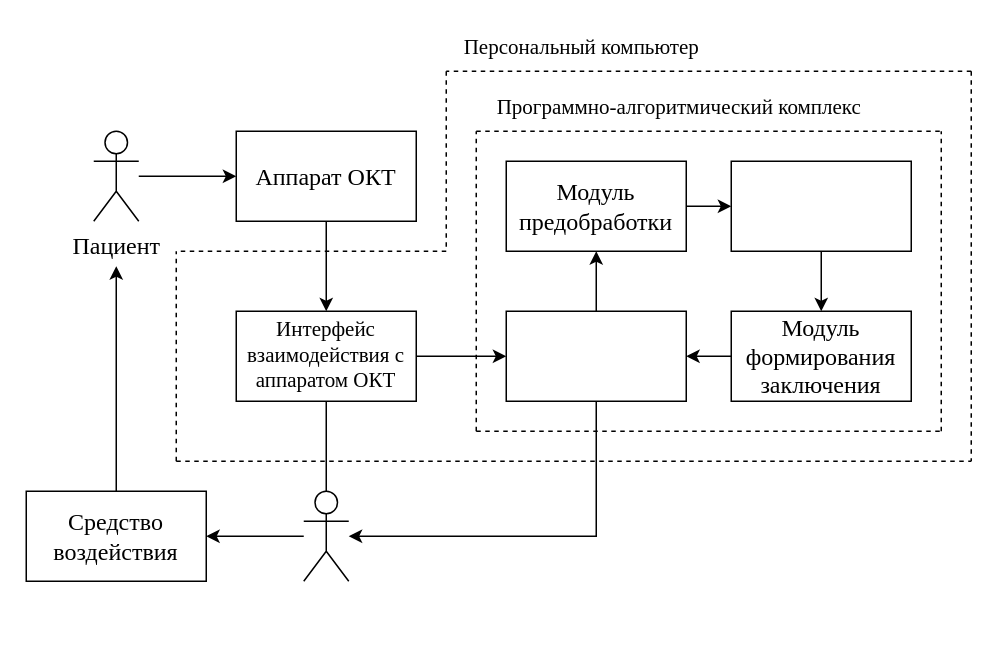
This 999x645 diagram has some shape labels left out. The centre of each missing label's shape, as x and y in pixels:
"Врач-исследователь" goes at point (325, 535).
"Интерфейс алгоритмического комплекса" goes at point (595, 355).
"Модуль обработки" goes at point (820, 205).
